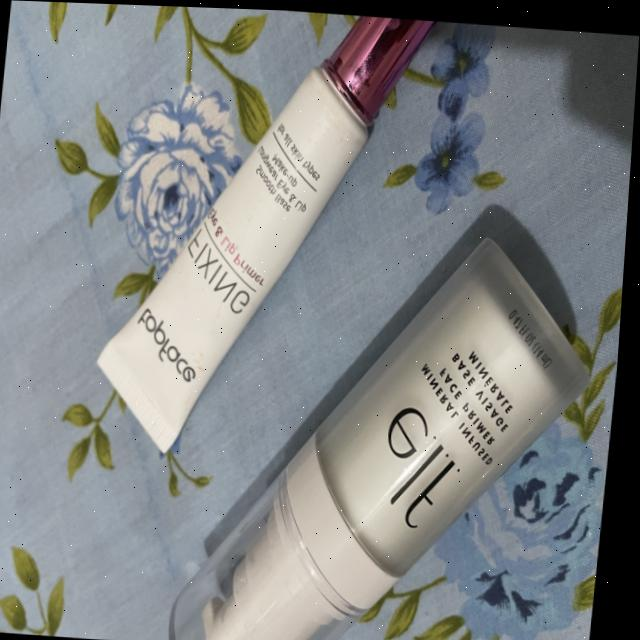bb cream: (51, 2, 503, 494)
setting spray: (116, 185, 607, 640)
